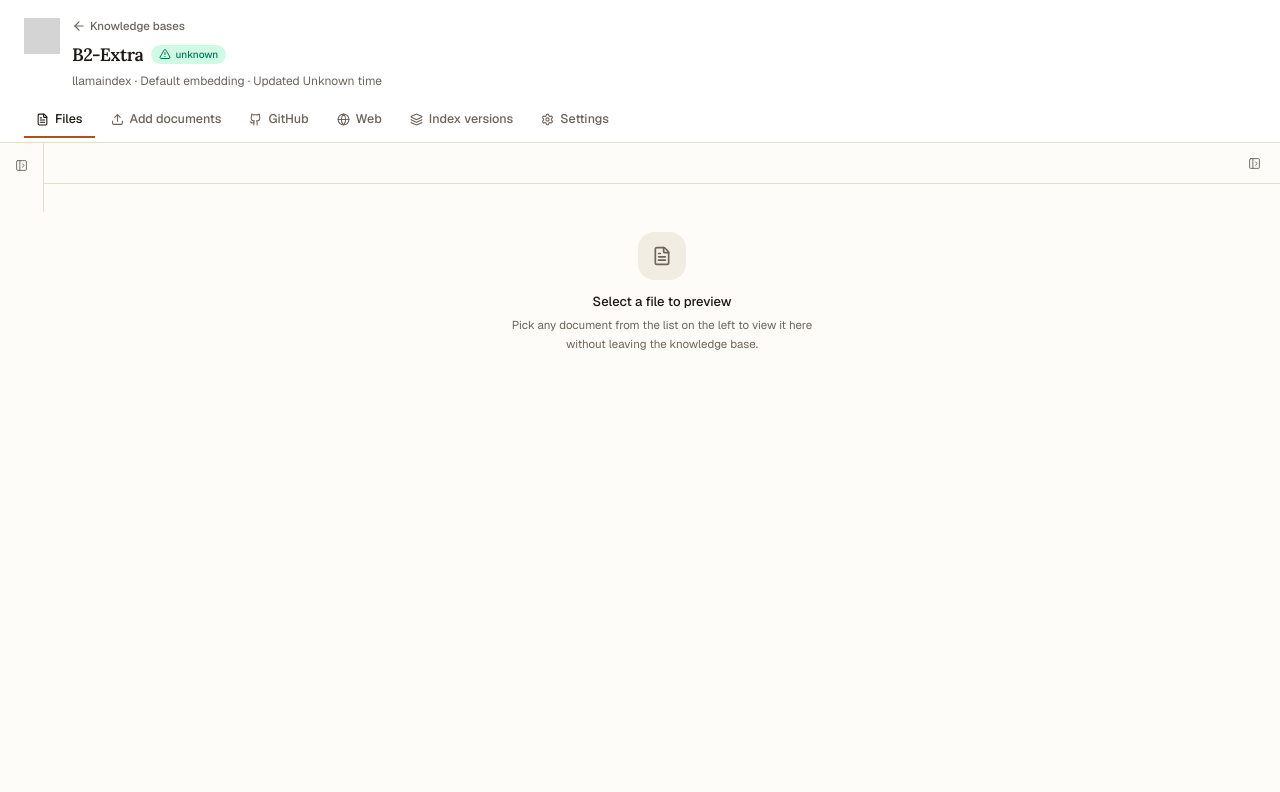
does not offer the interactive detail until the alias URL is replaced by the canonical ref
Click the button "Settings". click: coordinates (575, 120)
box: [529,102,621,138]
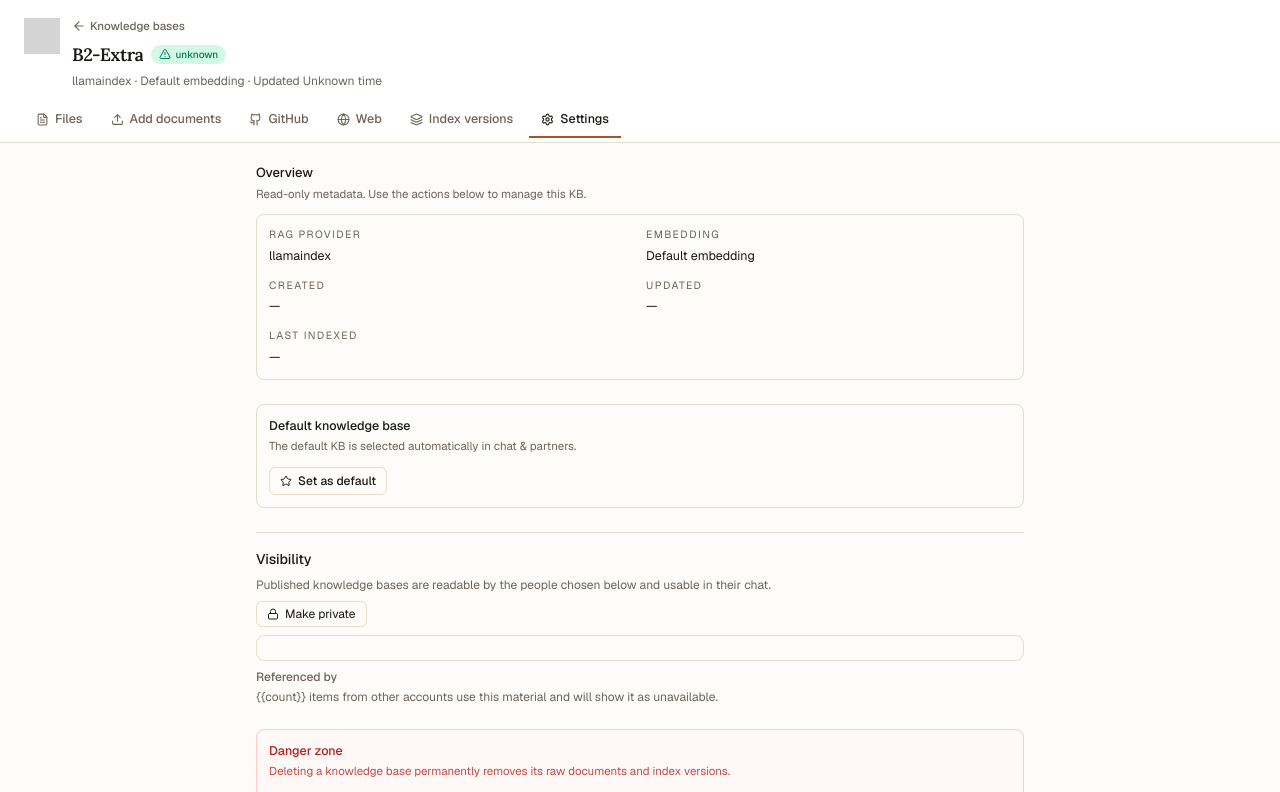
Now the button "Make private" is enabled, box [256,601,367,627]
